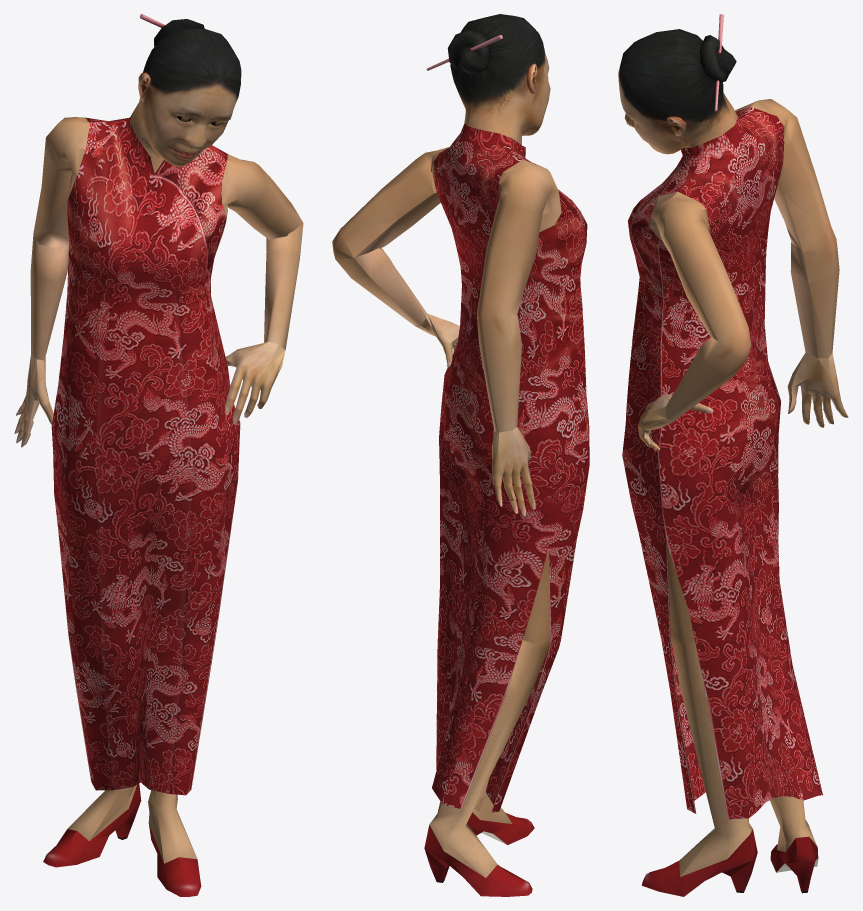
Rendered from womanasian.fbx.
3 views of the same model, side by side, from view 1: azimuth 30°, elevation 25°; view 2: azimuth 150°, elevation 25°; view 3: azimuth 270°, elevation 25° (orthographic). The views are drawn at different scales.
Visible parts, largest first — view 1: rest_2_001; view 2: rest_2_001; view 3: rest_2_001.
Boxes of the visible parts, bbox=[...] form: rest_2_001: bbox=[14, 14, 303, 896]; rest_2_001: bbox=[332, 14, 589, 896]; rest_2_001: bbox=[618, 14, 848, 896].
Bounding box in the file's own units: 132 × 431 × 104.
